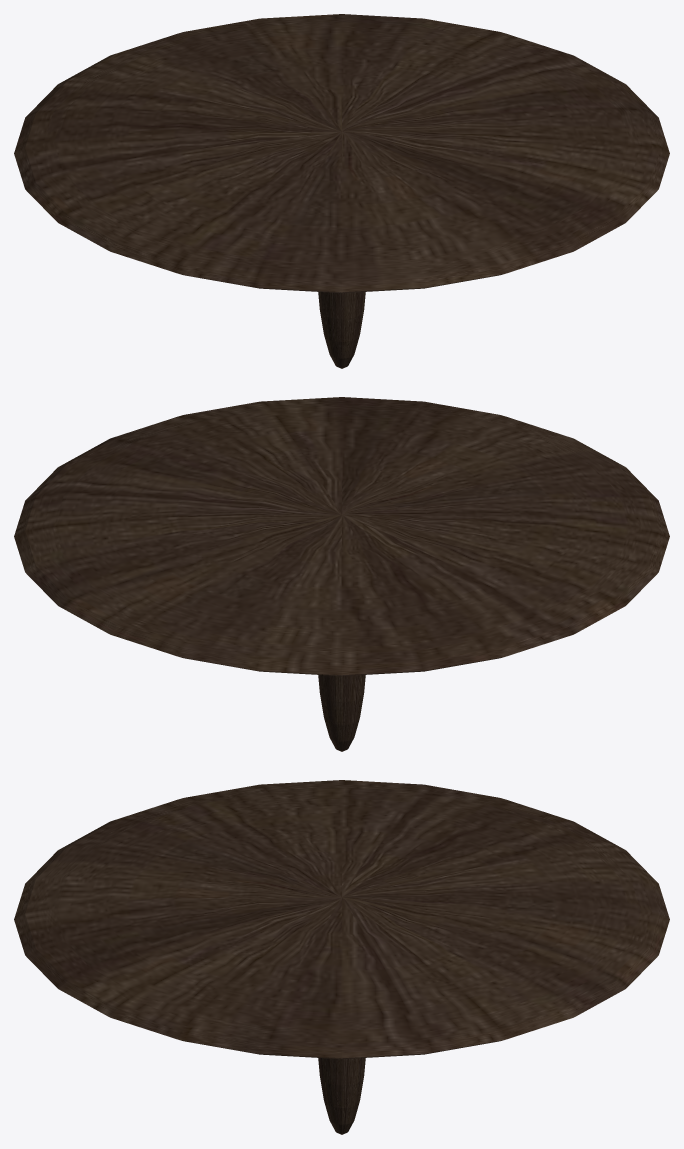
Rendered from tablemain.obj.
The picture shows the model from 3 angles, top to bottom: view 1: azimuth 30°, elevation 25°; view 2: azimuth 150°, elevation 25°; view 3: azimuth 270°, elevation 25°; orthographic projection.
Size of the model in its own units: 374 by 149 by 374.
1 material, 1 textured.
